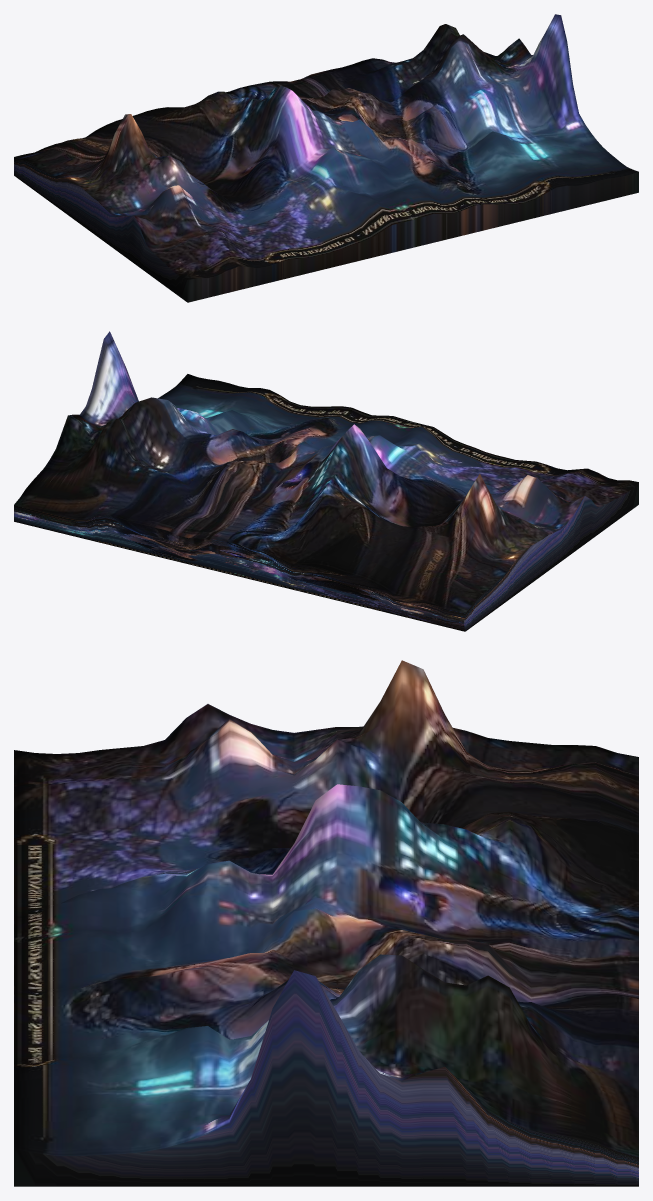
The model's file is RELATIONSHIP_01_Marriage_Proposal.glb.
3 renders of one model, top to bottom at view 1: azimuth 30°, elevation 25°; view 2: azimuth 150°, elevation 25°; view 3: azimuth 270°, elevation 25°, orthographic. The views are drawn at different scales.
Visible parts, largest first — view 1: RELATIONSHIP_01_Marriage_Proposal; view 2: RELATIONSHIP_01_Marriage_Proposal; view 3: RELATIONSHIP_01_Marriage_Proposal.
Boxes of the visible parts, left/top/right/bottom form: RELATIONSHIP_01_Marriage_Proposal: left=14, top=14, right=638, bottom=302; RELATIONSHIP_01_Marriage_Proposal: left=14, top=331, right=638, bottom=631; RELATIONSHIP_01_Marriage_Proposal: left=14, top=660, right=638, bottom=1186.
Size of the model in its own units: 2 by 0.51 by 1.33.
1 material, 1 textured.
